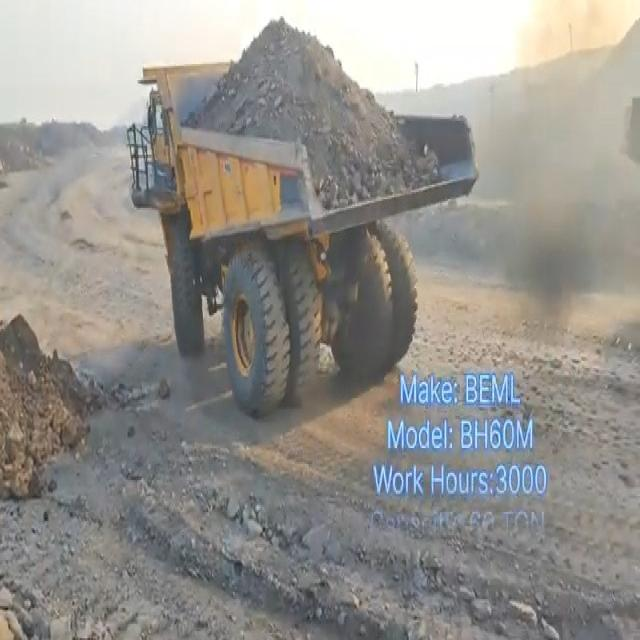dump_truck: (132, 21, 478, 377)
